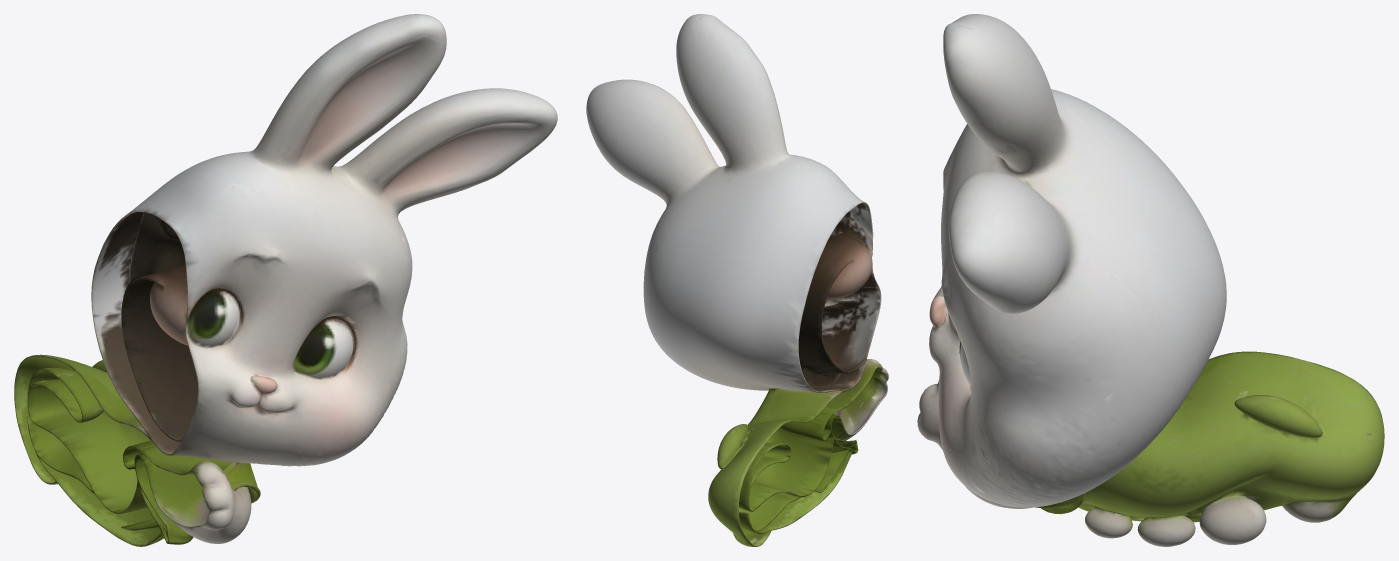
Rendered from rabbit-edge-left.glb.
The picture shows the model from 3 angles, left to right: view 1: azimuth 30°, elevation 25°; view 2: azimuth 150°, elevation 25°; view 3: azimuth 270°, elevation 25°; orthographic projection. The views are drawn at different scales.
Parts seen in each view (by area): view 1: node_0; view 2: node_0; view 3: node_0.
Boxes of the visible parts, x1,y1,x2,y2 form: node_0: (14,14,557,546); node_0: (586,14,888,546); node_0: (917,14,1384,546).
Size of the model in its own units: 0.6789 by 0.9054 by 0.6212.
Materials: 1 (1 with a texture image).
